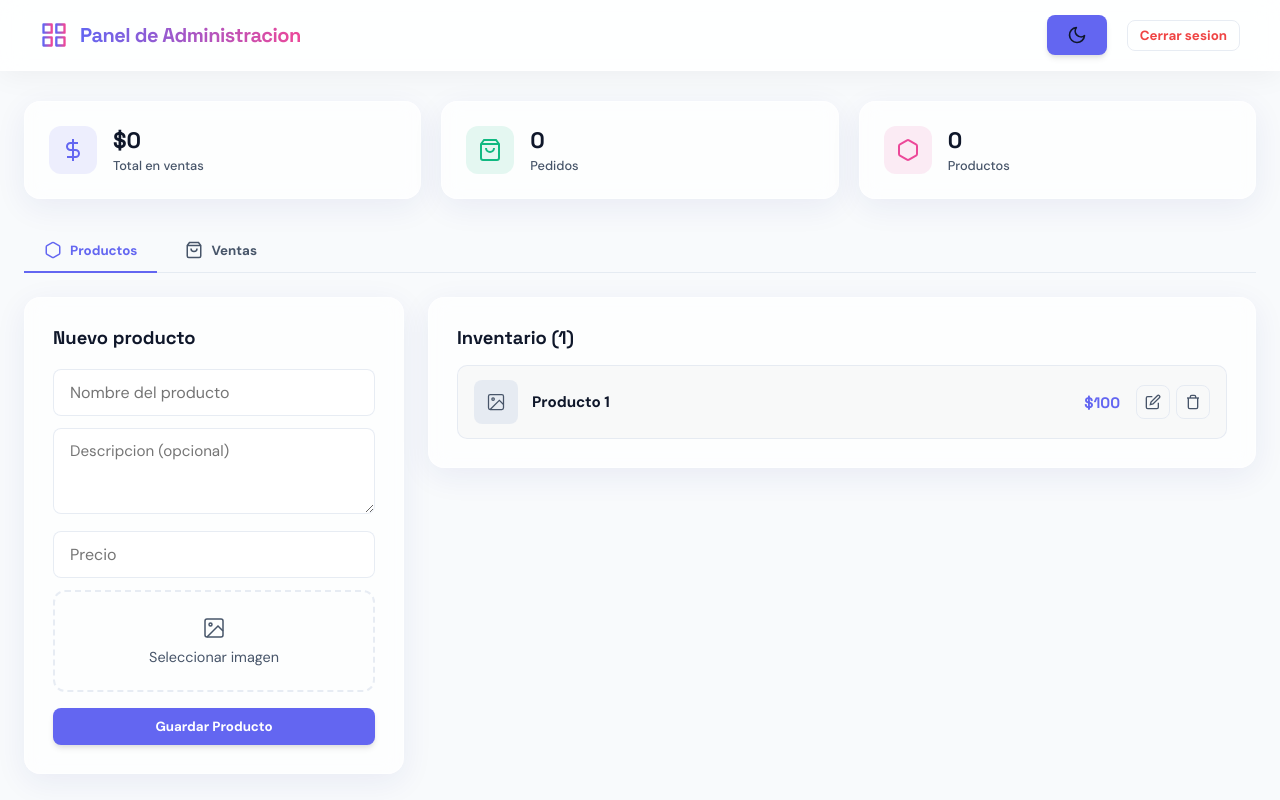
Test case: Admin Component › Cobertura adicional › cancela la edición y limpia el formulario
Expected: the text "Producto 1" is shown, [532,392,610,412]
Click the button titled "Editar" at (1153, 402), box [1136,385,1170,419]
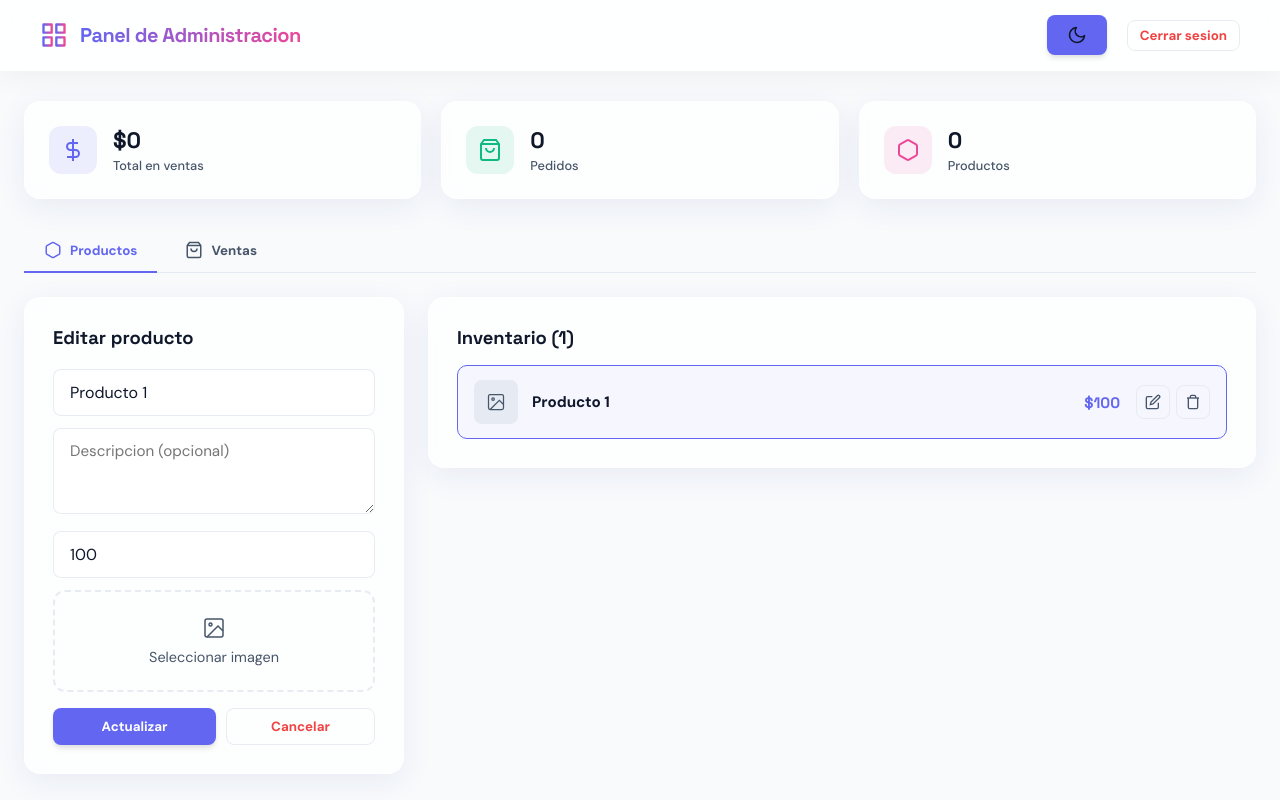
Expected: the button "Cancelar" is shown
Click the button "Cancelar" at (300, 726), box [226,708,375,745]
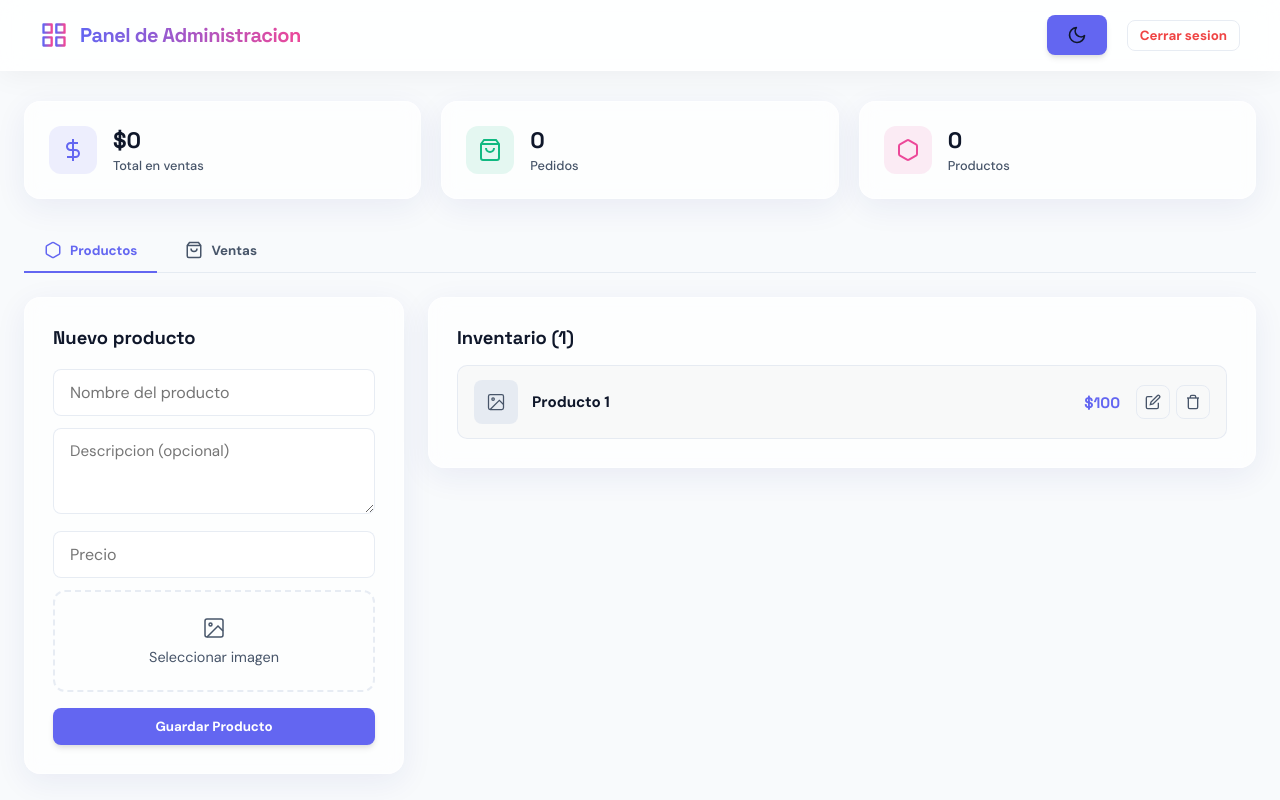
Expected: the heading "Nuevo producto" is shown, [53,326,196,349]
